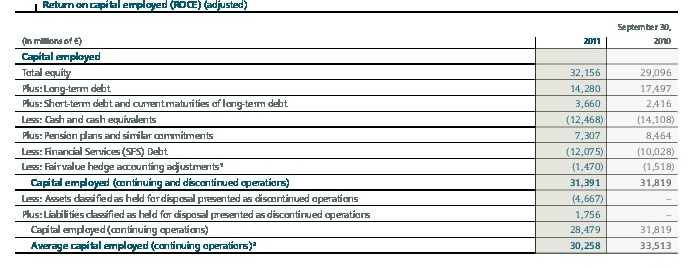table: (0, 0, 692, 268)
